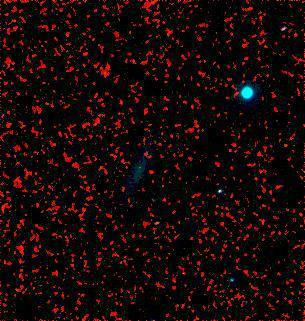star: (232, 77, 262, 107)
